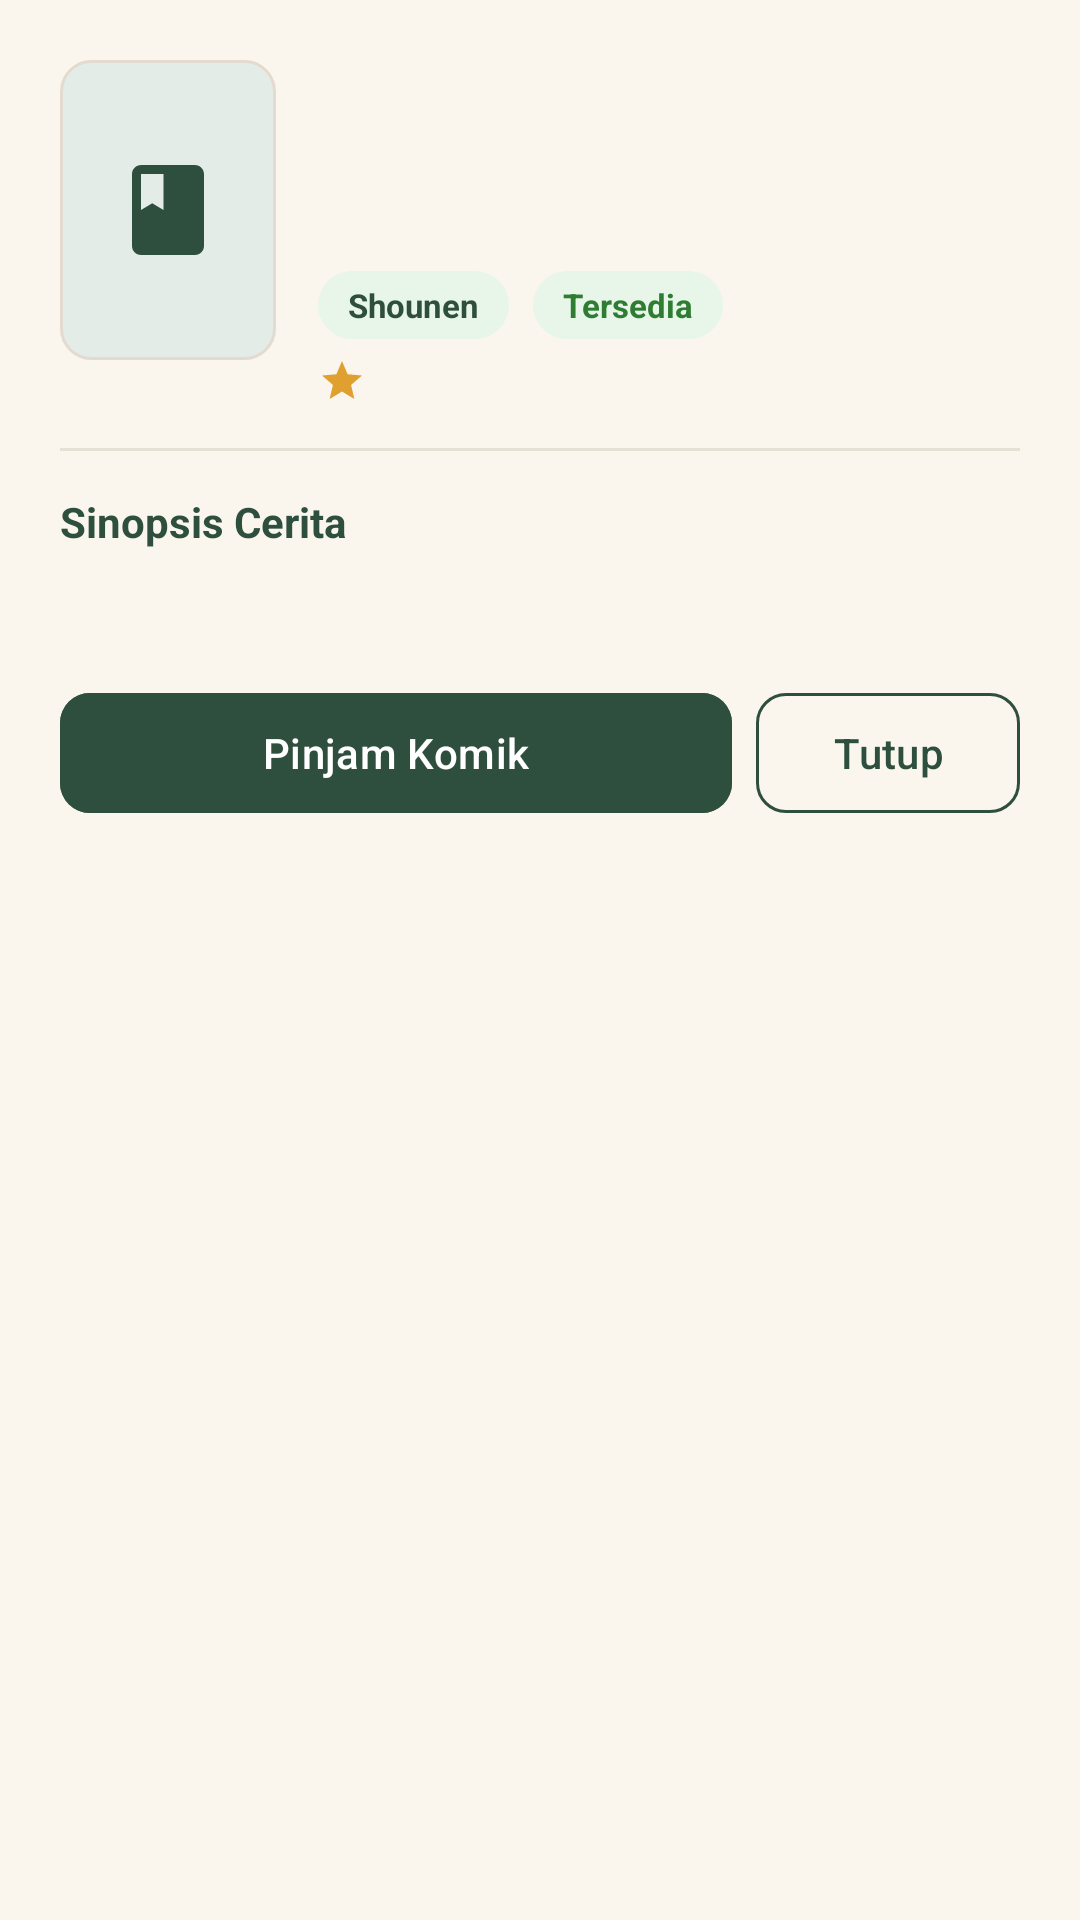

Icon click points for this 1080 × 1920 phone screenshot, format (x=x, y=y):
Cover Manga: (x=168, y=210)
Rating: (x=342, y=380)
